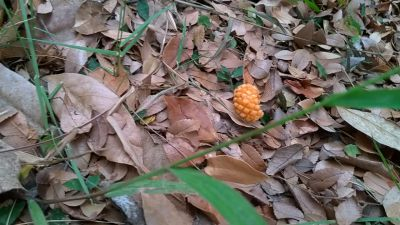eggs: (231, 82, 265, 124)
